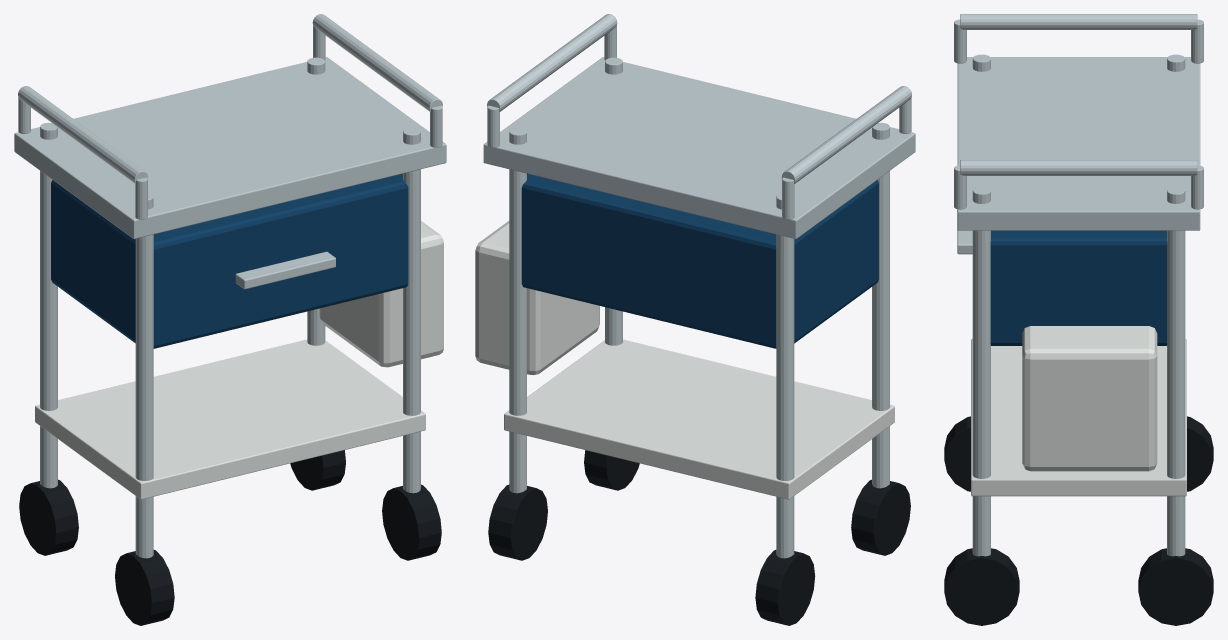
3 views of the same model, side by side, from view 1: azimuth 30°, elevation 25°; view 2: azimuth 150°, elevation 25°; view 3: azimuth 270°, elevation 25° (orthographic).
Parts seen in each view (by area): view 1: TOP, DRAWER, LOWER_Shelf, WASTE_Bin, FRAME, FRAME.002, FRAME.001, CASTER.001, CASTER.003, CASTER.002, RAIL, RAIL.001 (+3 smaller); view 2: TOP, DRAWER, LOWER_Shelf, WASTE_Bin, FRAME.001, FRAME.003, FRAME, CASTER.002, CASTER, CASTER.001, RAIL.001, RAIL (+2 smaller); view 3: TOP, WASTE_Bin, DRAWER, LOWER_Shelf, FRAME.002, FRAME.003, CASTER, CASTER.003, RAIL, RAIL.001, CASTER.001, CASTER.002 (+5 smaller).
Boxes of the visible parts, x1=… form: TOP: x1=14, y1=57, x2=446, y2=238; DRAWER: x1=51, y1=173, x2=408, y2=348; LOWER_Shelf: x1=35, y1=339, x2=425, y2=499; WASTE_Bin: x1=319, y1=221, x2=443, y2=367; FRAME: x1=135, y1=193, x2=153, y2=558; FRAME.002: x1=403, y1=127, x2=420, y2=493; FRAME.001: x1=40, y1=122, x2=57, y2=488; CASTER.001: x1=115, y1=550, x2=174, y2=625; CASTER.003: x1=382, y1=484, x2=441, y2=560; CASTER.002: x1=19, y1=479, x2=78, y2=555; RAIL: x1=18, y1=86, x2=148, y2=183; RAIL.001: x1=312, y1=14, x2=442, y2=111; TOP: x1=483, y1=57, x2=915, y2=238; DRAWER: x1=521, y1=173, x2=878, y2=348; LOWER_Shelf: x1=504, y1=339, x2=894, y2=499; WASTE_Bin: x1=475, y1=221, x2=599, y2=375; FRAME.001: x1=776, y1=193, x2=794, y2=558; FRAME.003: x1=509, y1=127, x2=526, y2=493; FRAME: x1=872, y1=122, x2=889, y2=488; CASTER.002: x1=755, y1=550, x2=815, y2=625; CASTER: x1=488, y1=484, x2=547, y2=560; CASTER.001: x1=851, y1=479, x2=910, y2=555; RAIL.001: x1=487, y1=14, x2=617, y2=111; RAIL: x1=782, y1=86, x2=911, y2=183; TOP: x1=957, y1=57, x2=1200, y2=230; WASTE_Bin: x1=1022, y1=326, x2=1157, y2=471; DRAWER: x1=990, y1=230, x2=1167, y2=345; LOWER_Shelf: x1=971, y1=338, x2=1186, y2=496; FRAME.002: x1=972, y1=186, x2=990, y2=556; FRAME.003: x1=1167, y1=186, x2=1185, y2=556; CASTER: x1=1138, y1=548, x2=1213, y2=625; CASTER.003: x1=944, y1=548, x2=1019, y2=625; RAIL: x1=960, y1=14, x2=1197, y2=29; RAIL.001: x1=960, y1=160, x2=1197, y2=175; CASTER.001: x1=944, y1=416, x2=970, y2=491; CASTER.002: x1=1187, y1=416, x2=1213, y2=491.
Size of the model in its own units: 0.75 by 0.955 by 0.5.
